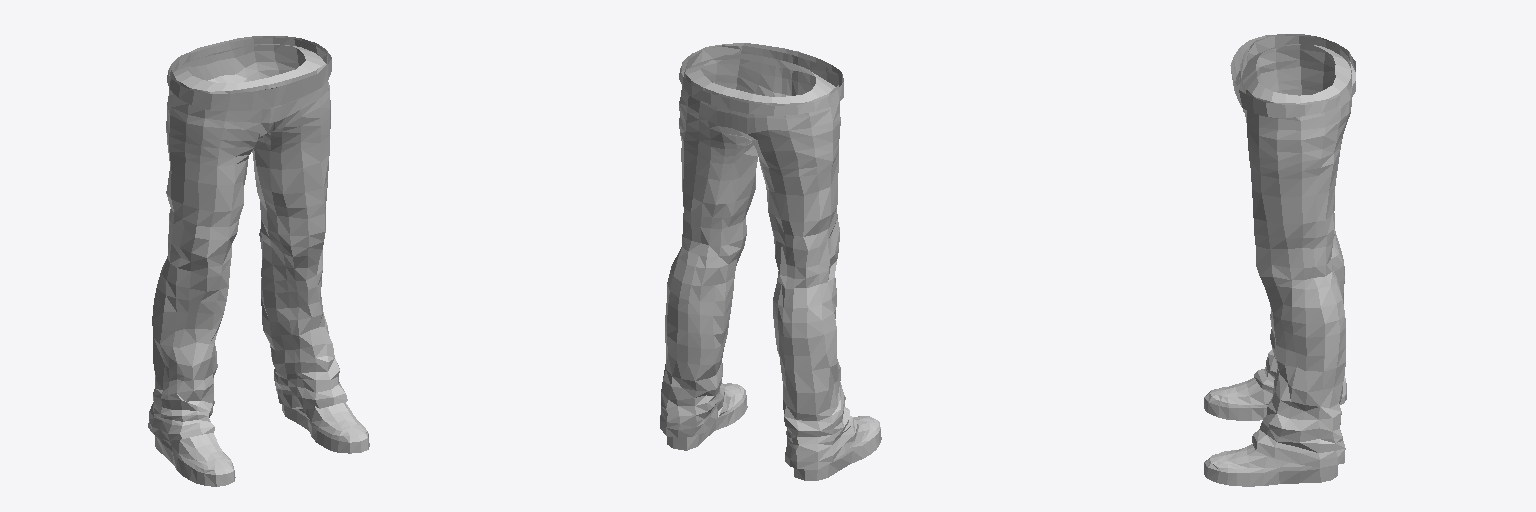
The model's file is legs.obj.
The picture shows the model from 3 angles: view 1: azimuth 30°, elevation 25°; view 2: azimuth 150°, elevation 25°; view 3: azimuth 270°, elevation 25°; orthographic projection.
Visible parts, largest first — view 1: Harry_Potter; view 2: Harry_Potter; view 3: Harry_Potter.
Boxes of the visible parts, <box> form: Harry_Potter: <box>148,36,369,486</box>; Harry_Potter: <box>660,43,881,480</box>; Harry_Potter: <box>1204,34,1355,486</box>.
Bounding box in the file's own units: 0.9228 × 1.88 × 0.6928.